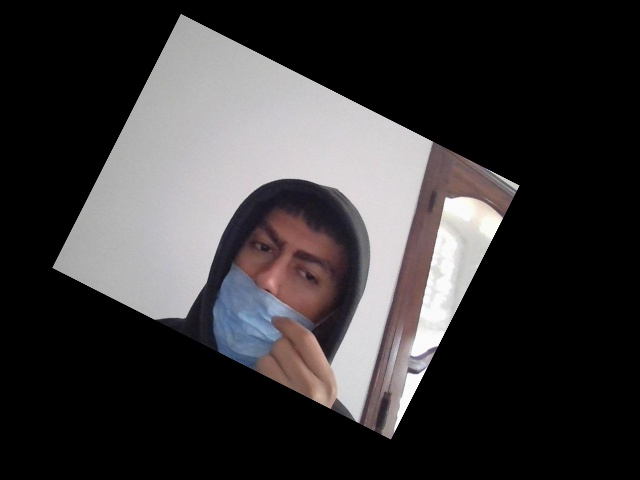mask_weared_incorrect: (211, 194, 352, 379)
